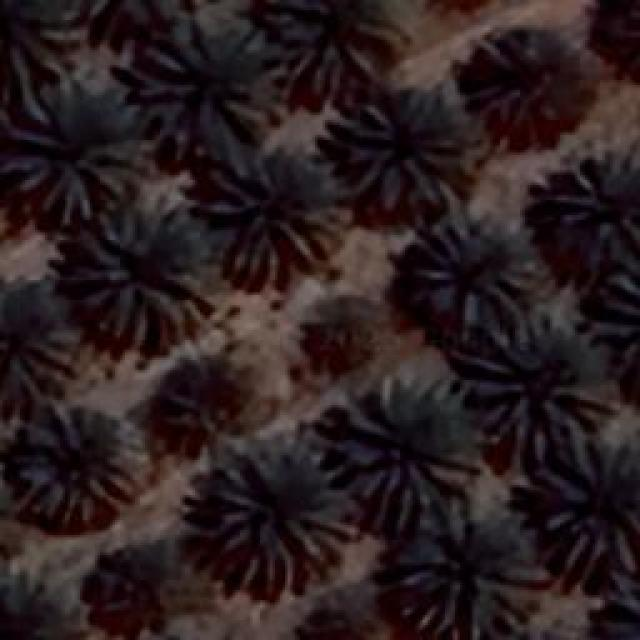PalmTree: (328, 374, 478, 528), (460, 318, 610, 458), (132, 17, 280, 155), (208, 145, 350, 285), (2, 88, 148, 222), (75, 200, 210, 342), (400, 504, 542, 638), (337, 85, 475, 215), (202, 450, 336, 580), (12, 404, 138, 528), (412, 208, 538, 328), (534, 438, 638, 568), (270, 0, 382, 88), (454, 28, 558, 122), (552, 147, 638, 260), (0, 284, 75, 406), (0, 0, 77, 109), (160, 355, 250, 440), (82, 552, 170, 630), (563, 0, 640, 83), (588, 256, 640, 378), (69, 0, 185, 52), (278, 588, 385, 640), (0, 567, 76, 640), (308, 296, 372, 362), (583, 578, 640, 640)
